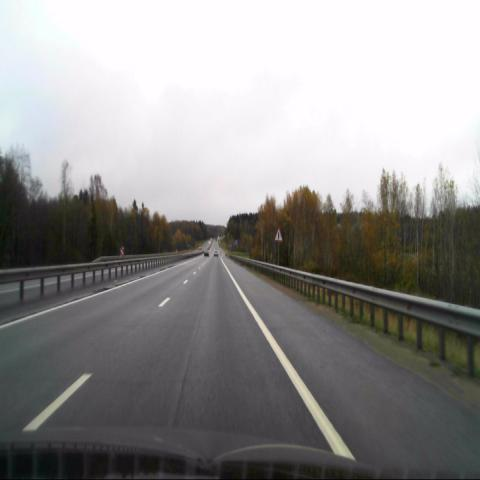2_3_2: (274, 229, 282, 241)
